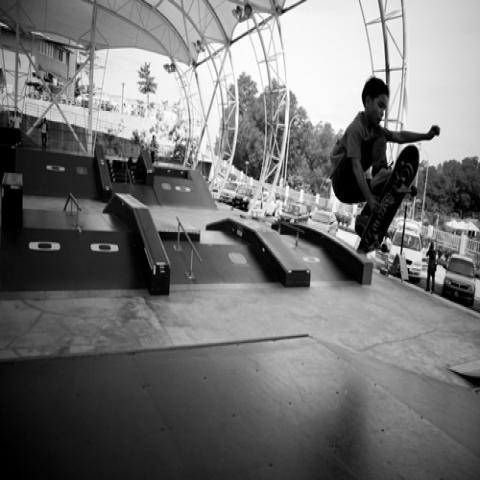car: (387, 218, 423, 282), (441, 253, 476, 308), (309, 207, 338, 235), (277, 204, 308, 224), (232, 187, 254, 210), (222, 182, 241, 203)
